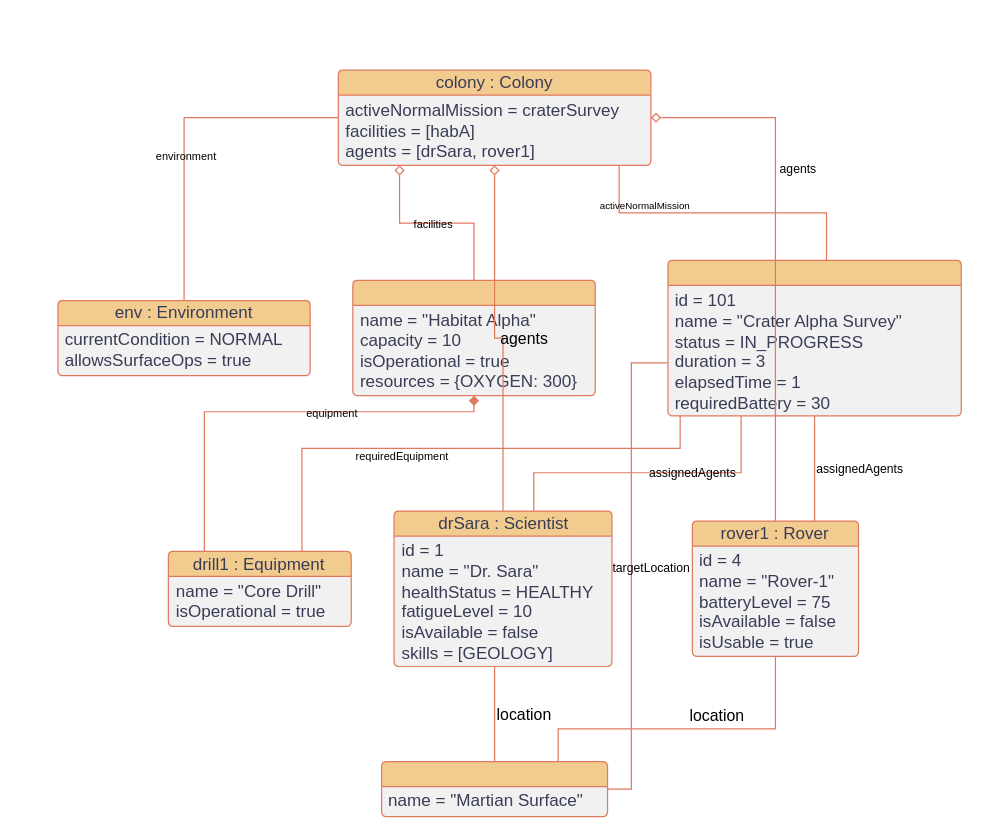
Some shapes in this 982 by 838 pixel diagram are drawn without their labels. The shapes that lost their labels are listed below. From the top down, each one's box as (x1, y1, x2, y2) in pixels, then its label:
(352, 279, 595, 396): habA : Habitat
(667, 259, 961, 416): craterSurvey : ExplorationMission
(380, 760, 608, 817): surface : Surface
